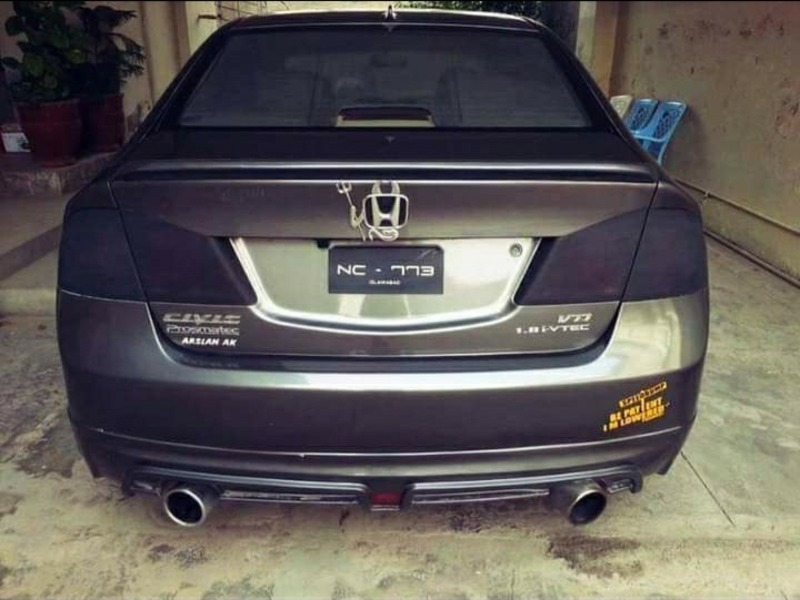License Plate: (326, 240, 447, 300)
